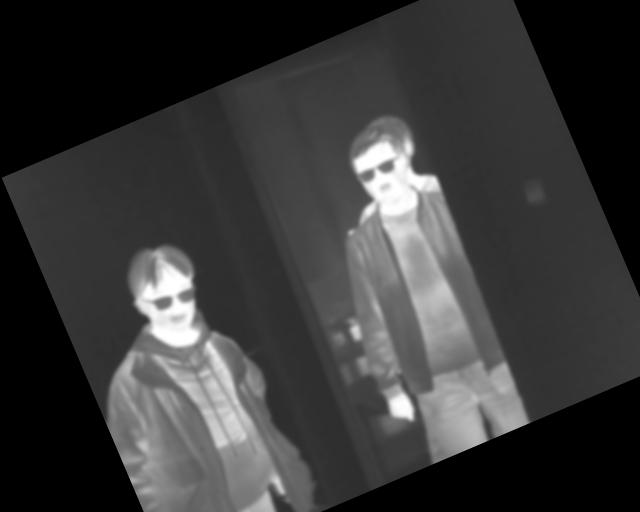face: (113, 232, 215, 346), (340, 117, 423, 213)
